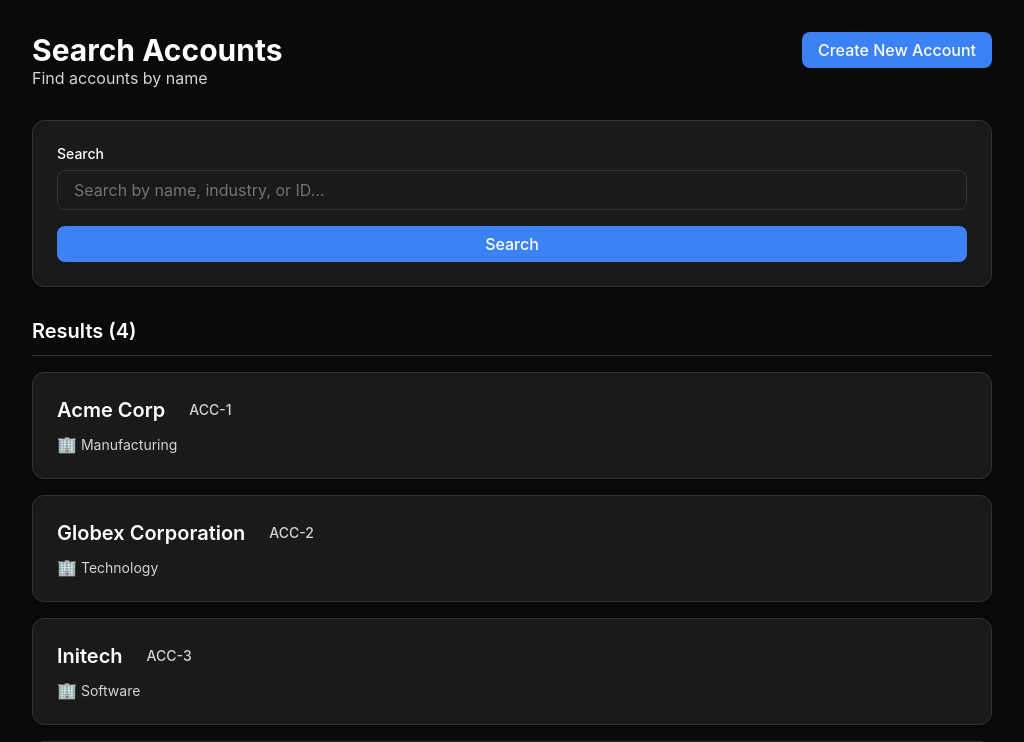
it: SearchAccounts › filters accounts by name
The image size is (1024, 742).
In the field with placeholder "Search by name, industry, or ID...": (512, 190) [57,170,967,210], type "Acme"
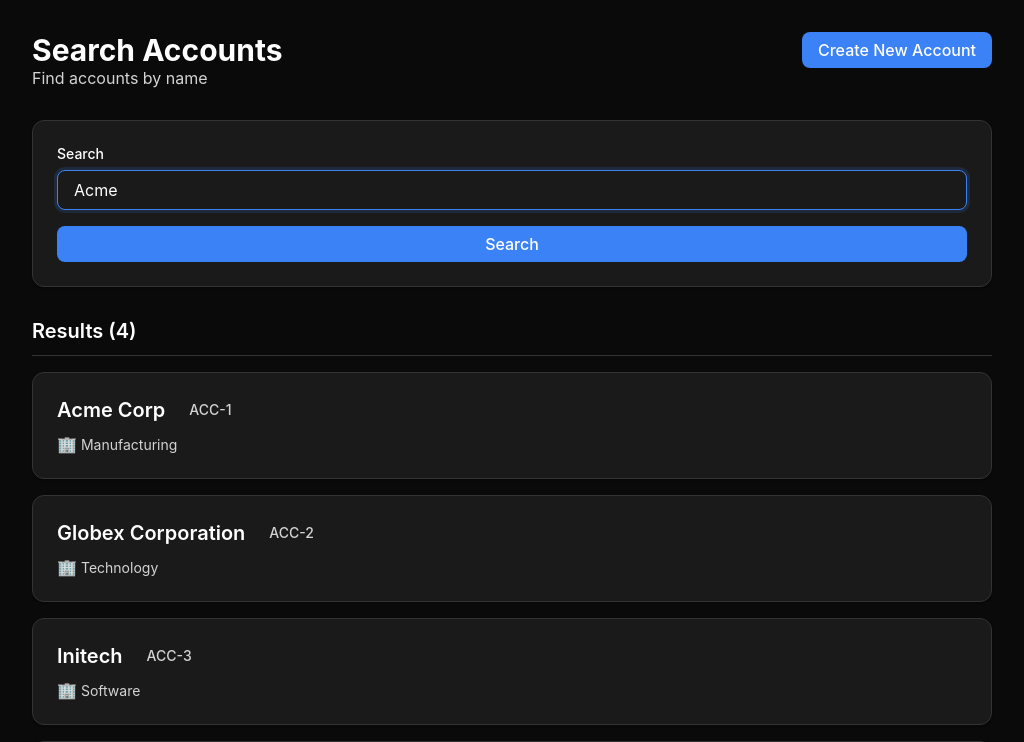
Click the button "Search": (512, 244) [57,226,967,262]
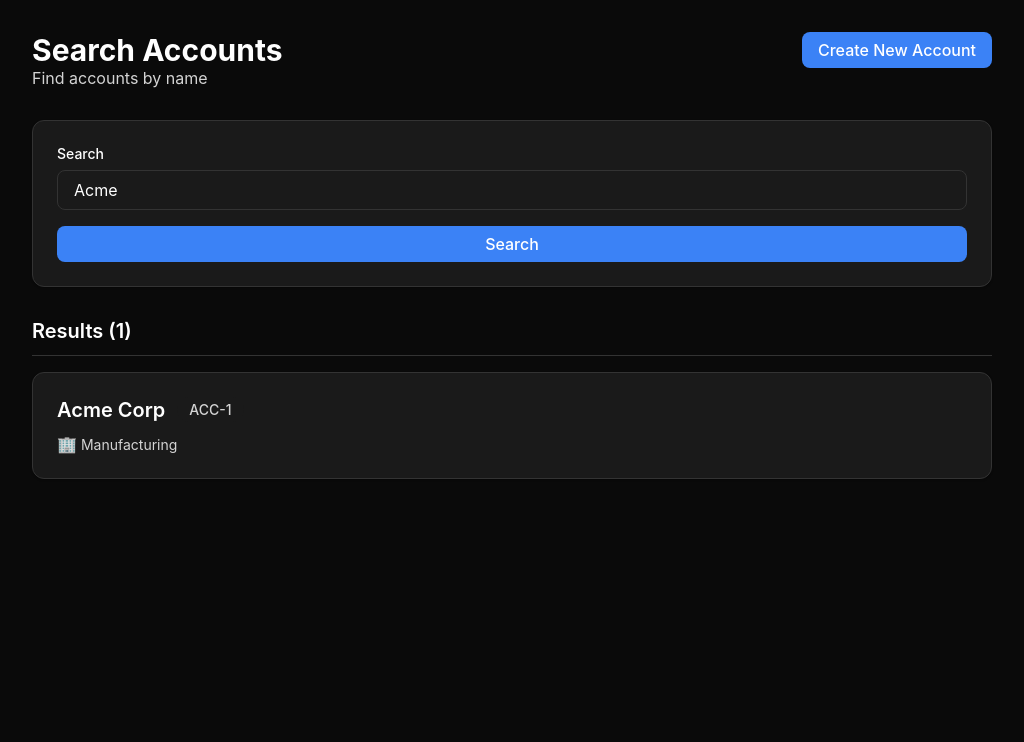
Expected: the heading "Results (1)" is shown, [32,319,132,343]
Expected: the button "Globex Corporation" is gone
Expected: the button "Initech" is gone
